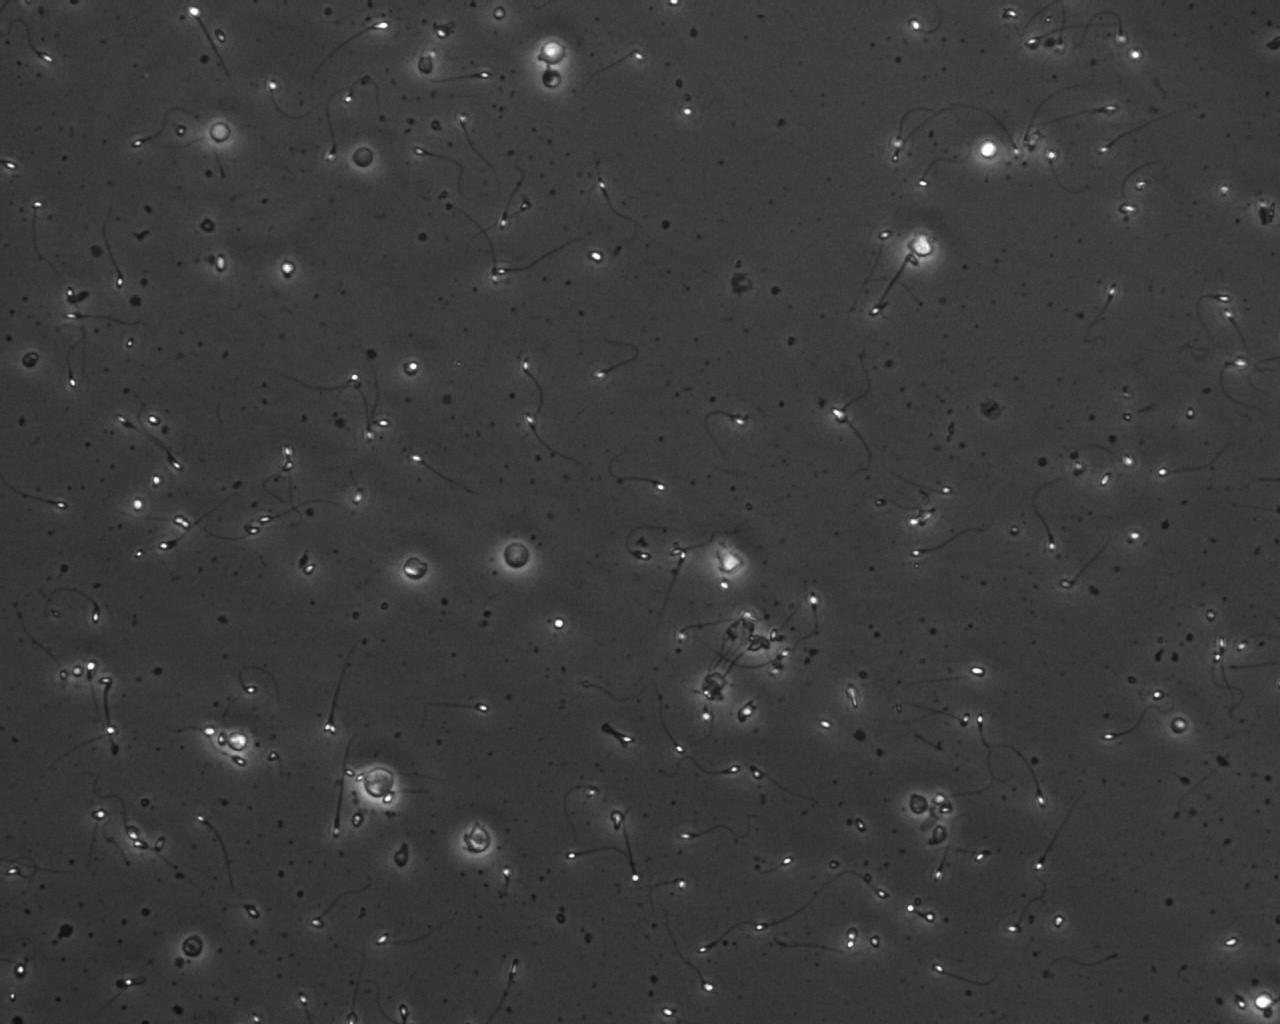cell: (357, 762, 401, 804), (535, 36, 571, 70), (501, 538, 533, 573), (905, 229, 937, 261), (399, 553, 432, 585), (463, 824, 494, 856), (348, 142, 378, 172), (206, 118, 235, 147), (223, 727, 252, 757), (717, 546, 745, 577), (178, 932, 206, 962), (538, 65, 565, 93), (905, 790, 932, 818), (975, 136, 1002, 163), (18, 347, 43, 372), (1166, 713, 1191, 738), (414, 52, 437, 79), (390, 846, 413, 871)
